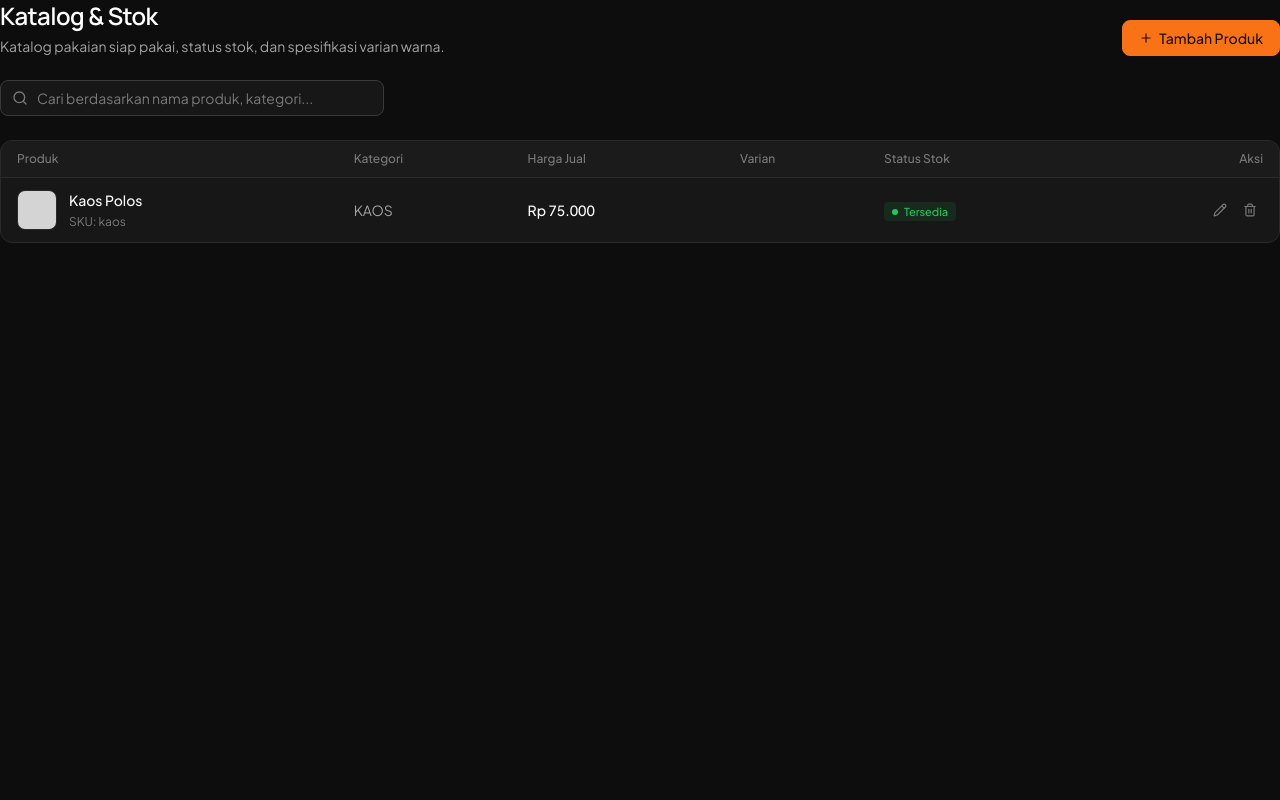
ProductsView - image safety › rejects a pasted image URL that is not http(s)
Expected: the text "Kaos Polos" is shown, [69, 190, 142, 210]
Click the button named "edit": (1220, 210) [1207, 197, 1233, 223]
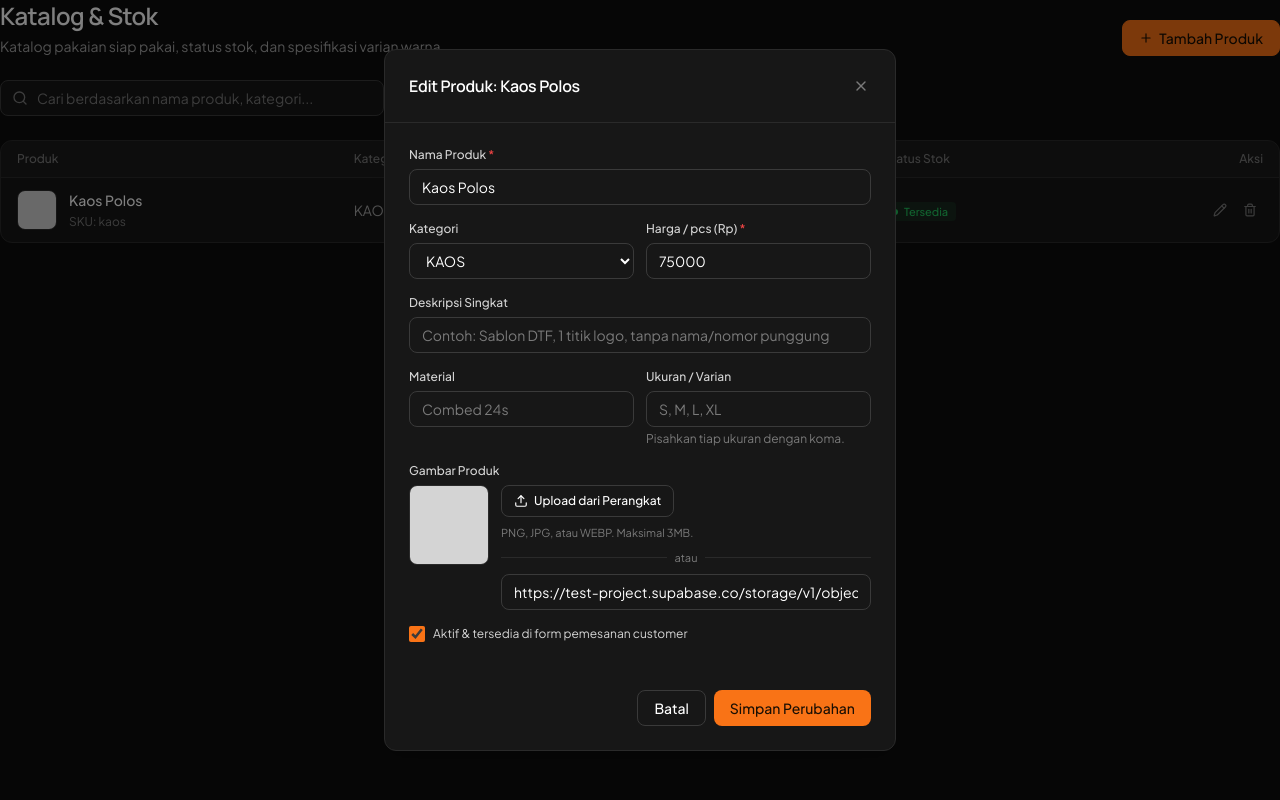
Result: the dialog is shown at [384, 49, 896, 751]
Replace the text in the field named "url gambar produk" with "javascript:alert(1)": (686, 592) [501, 574, 871, 610]
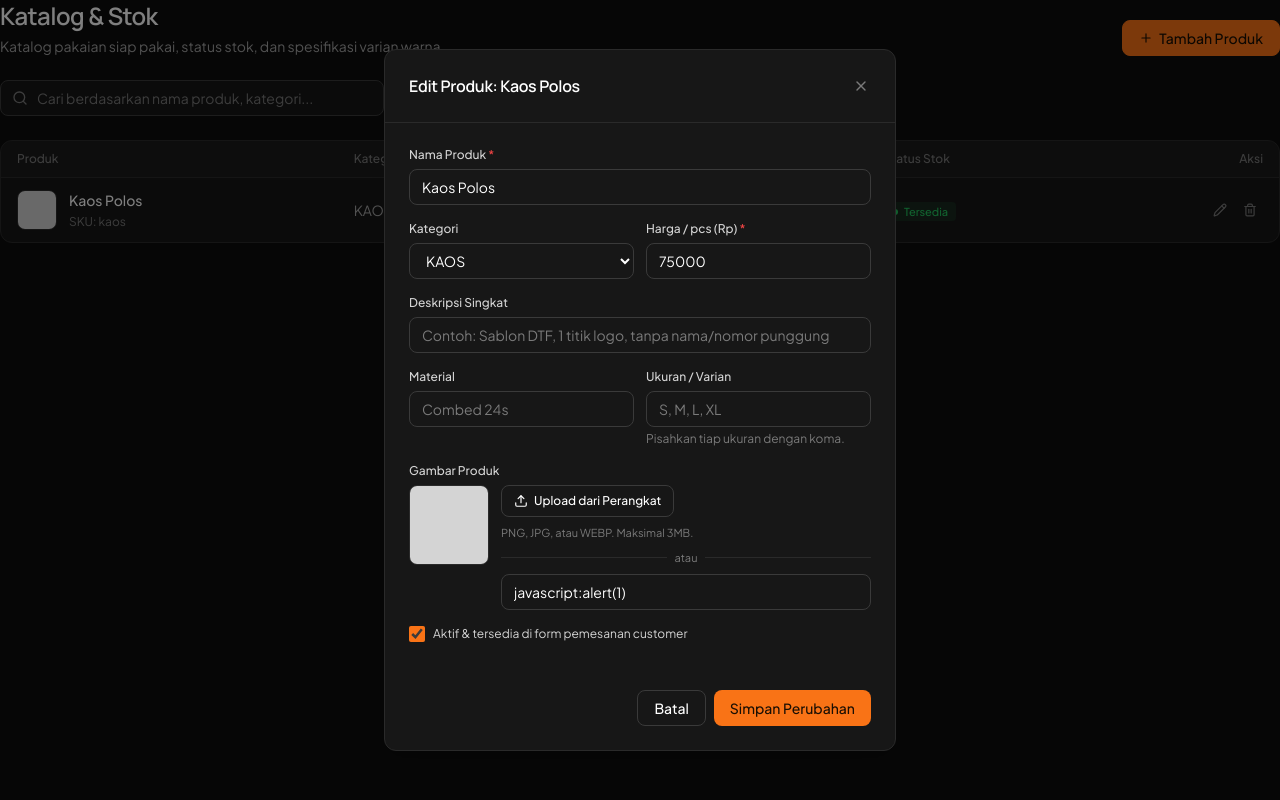
Click the button "Simpan Perubahan": (792, 708) [714, 690, 871, 726]
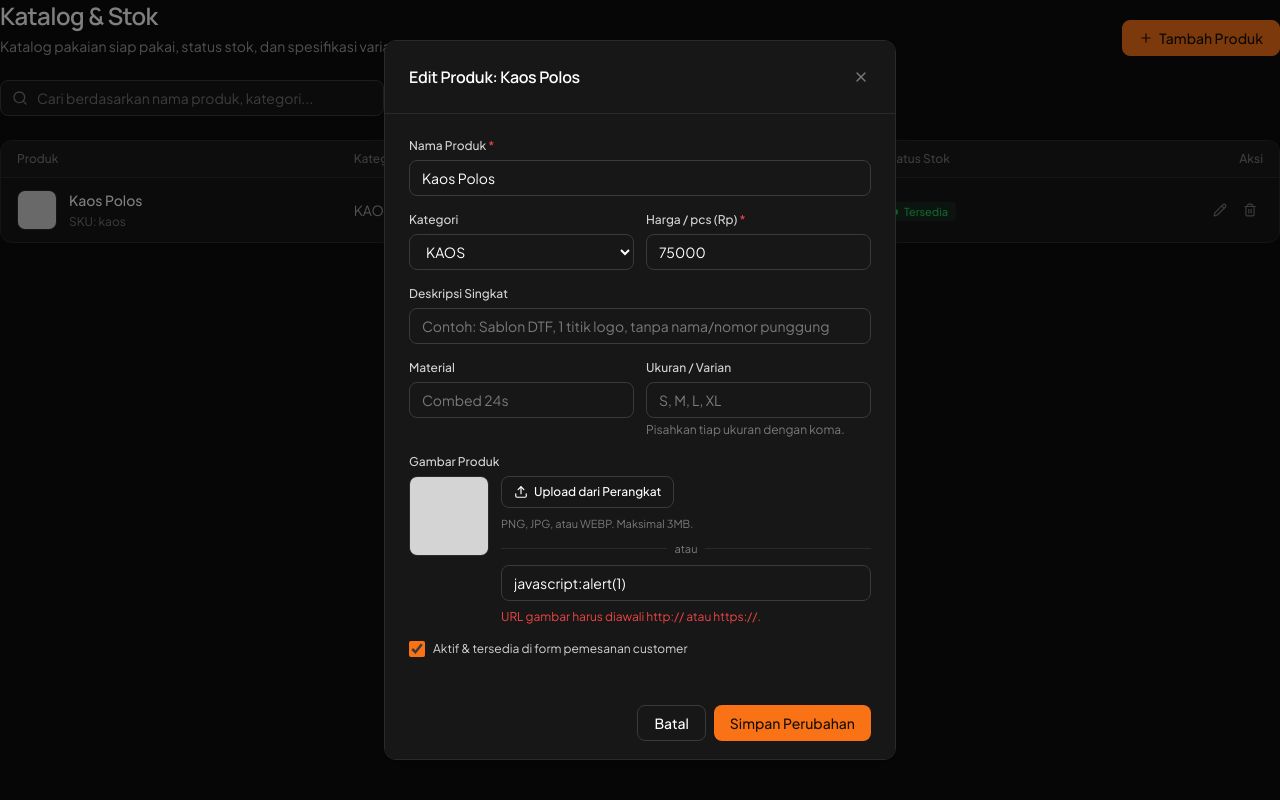
Result: the text "URL gambar harus diawali http:// atau https://." is shown at [501, 609, 761, 624]
